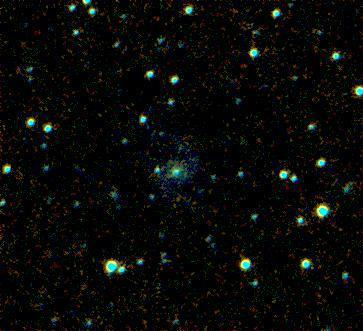star: (227, 54, 257, 84)
